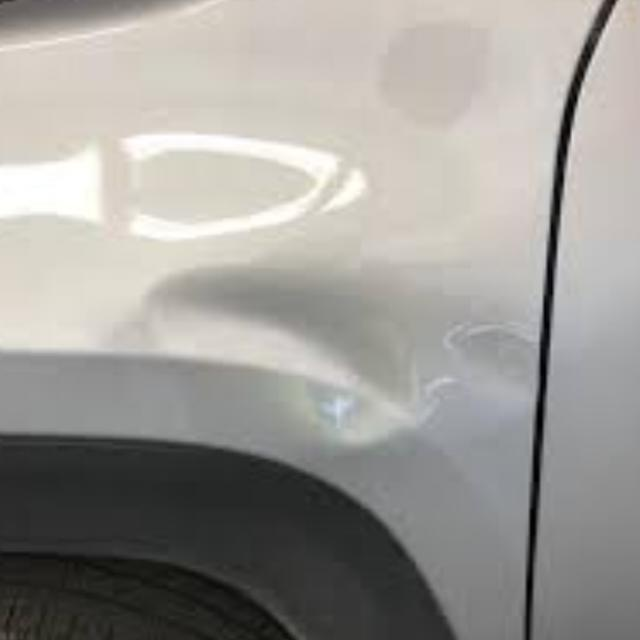dents: (120, 265, 473, 466)
